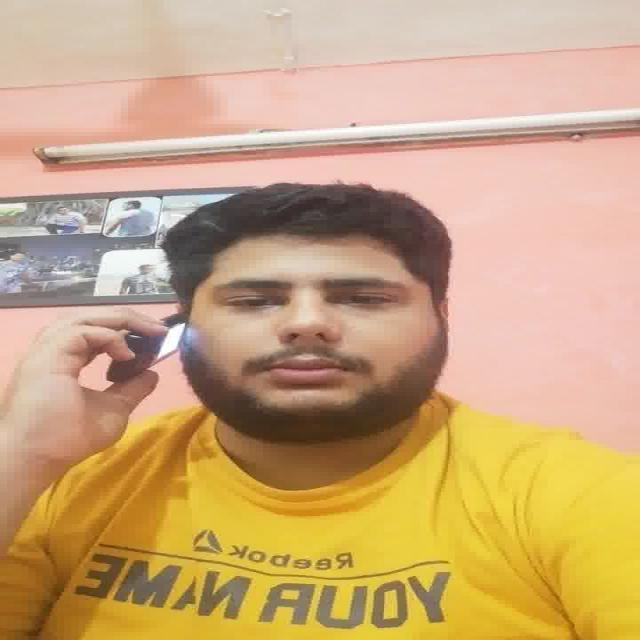phone: (106, 308, 190, 384)
